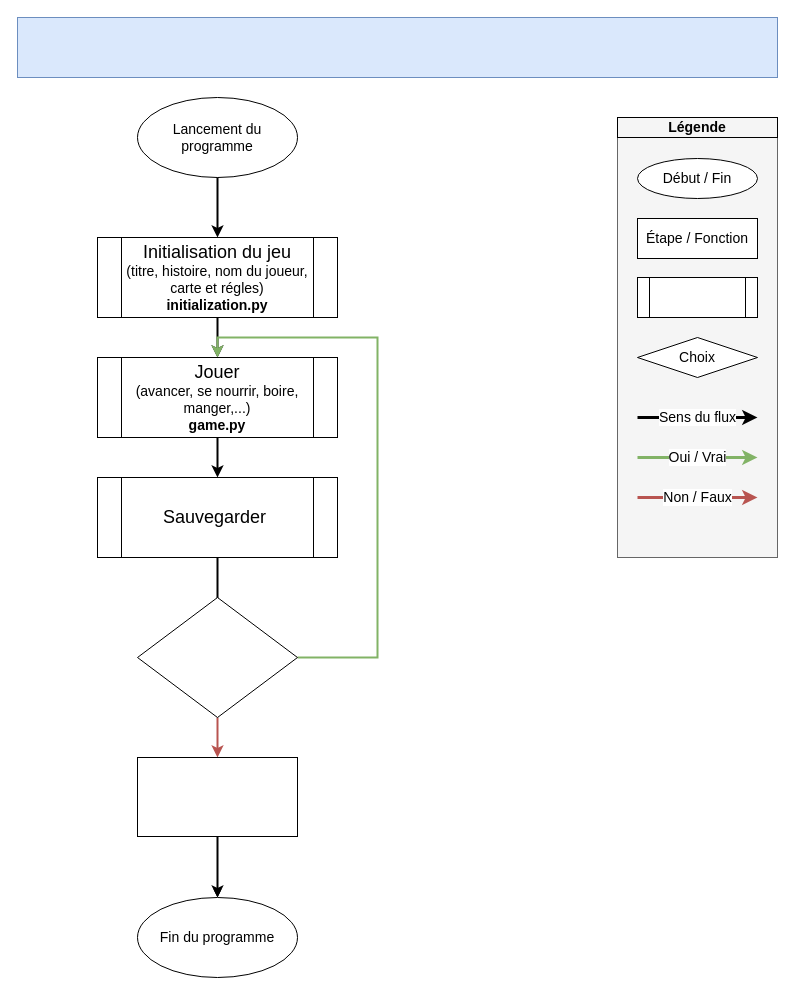
Image size: 795x995. Some labels were removed from this diagram. The shapes that lost their labels are listed below. From the top down, each one's centre as x and y in pixels, then its label:
the point at 397,47: Diagramme de flux - Project One (v0.1)
the point at 697,297: (Sous)-processus
the point at 217,657: Le jeu continue GameInProgress == True
the point at 217,796: Quitter le jeu (gagné ou perdu ?)
